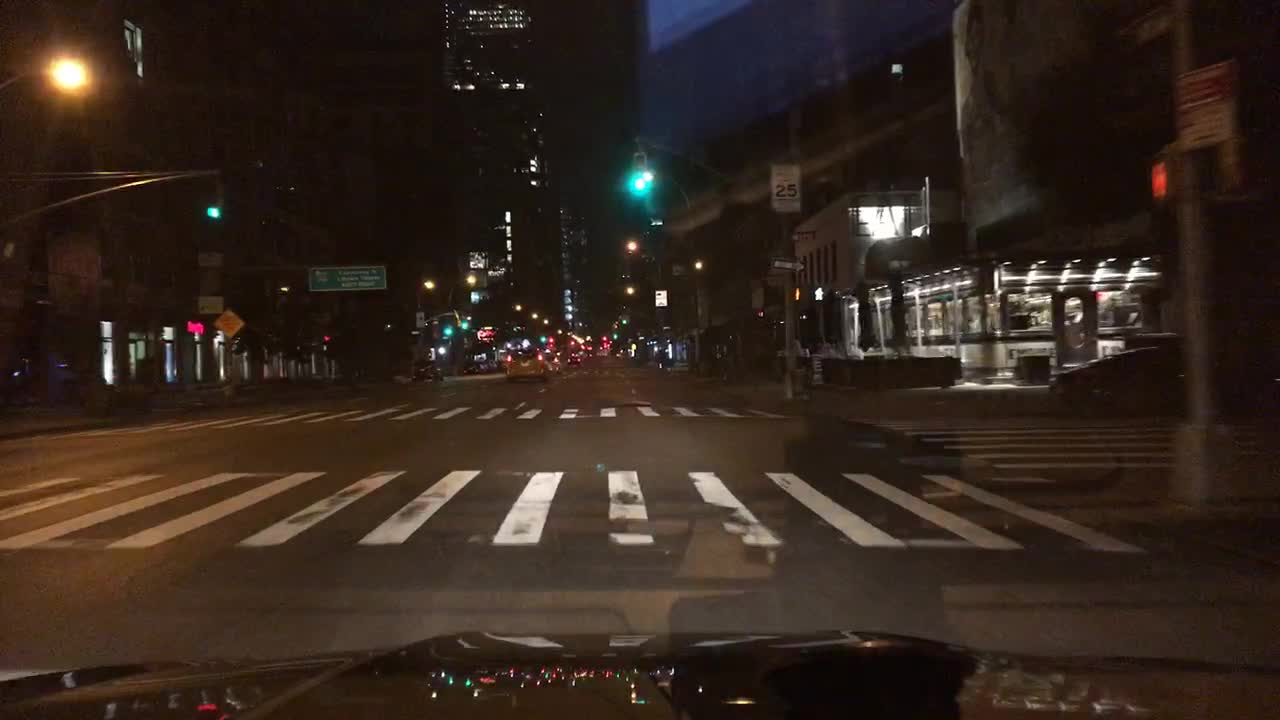car: (1046, 344, 1277, 416), (504, 339, 550, 381), (408, 358, 444, 381), (540, 347, 563, 373), (459, 358, 482, 374), (481, 356, 498, 374), (492, 354, 509, 371), (565, 353, 582, 366), (594, 346, 611, 359)
traffic light: (1216, 137, 1270, 201), (1147, 155, 1176, 202), (206, 175, 226, 221), (630, 150, 648, 197), (789, 283, 805, 304), (811, 283, 827, 300), (442, 320, 454, 339), (459, 314, 471, 329)
traffic sign: (1171, 57, 1237, 152), (307, 265, 388, 293), (1115, 10, 1173, 44), (768, 158, 801, 209), (211, 310, 243, 339), (769, 253, 805, 275), (788, 226, 818, 245), (651, 287, 668, 307), (415, 307, 425, 329)
